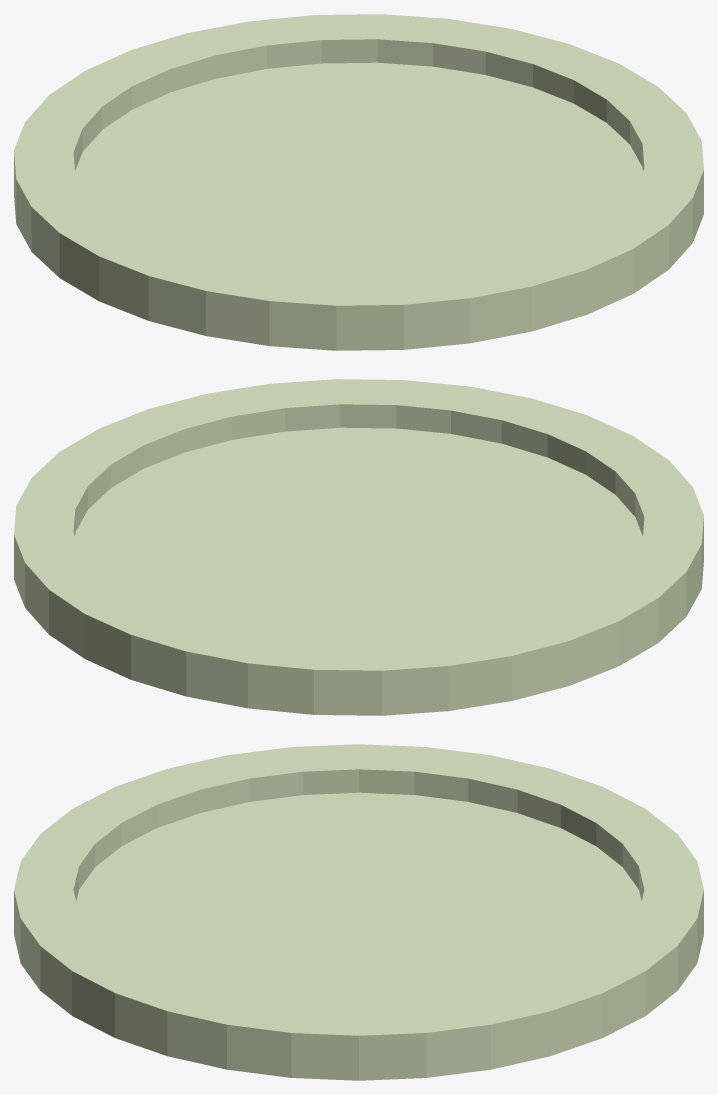
Rendered from shitty plate 30 second.fbx.
3 views of the same model, one above another, from view 1: azimuth 30°, elevation 25°; view 2: azimuth 150°, elevation 25°; view 3: azimuth 270°, elevation 25° (orthographic).
Visible parts, largest first — view 1: Cylinder; view 2: Cylinder; view 3: Cylinder.
Part boxes in pixels (box(x1,y1,x2,y2)): Cylinder: box(14, 14, 703, 350); Cylinder: box(14, 379, 703, 715); Cylinder: box(14, 744, 703, 1080).
Size of the model in its own units: 555 by 39.95 by 555.
